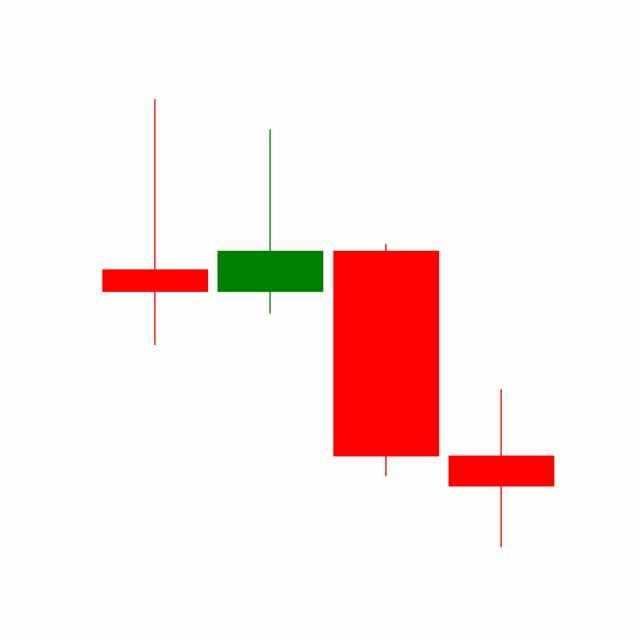Marubozu: (329, 243, 445, 481)
